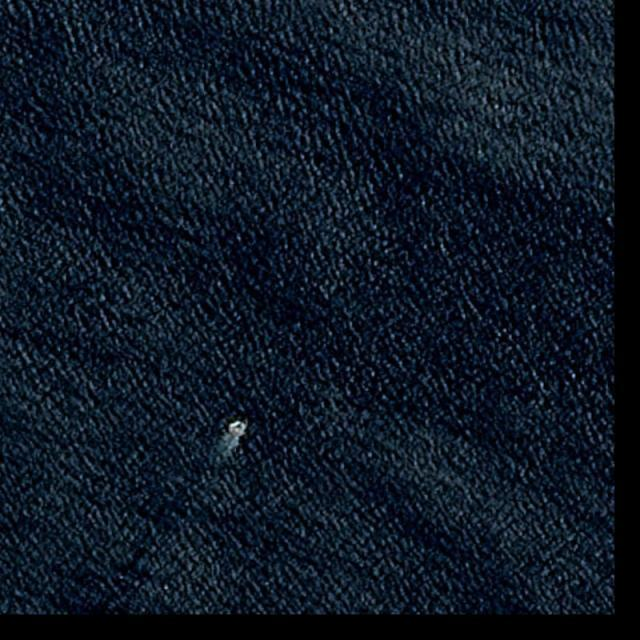ship: (232, 422, 243, 435)
